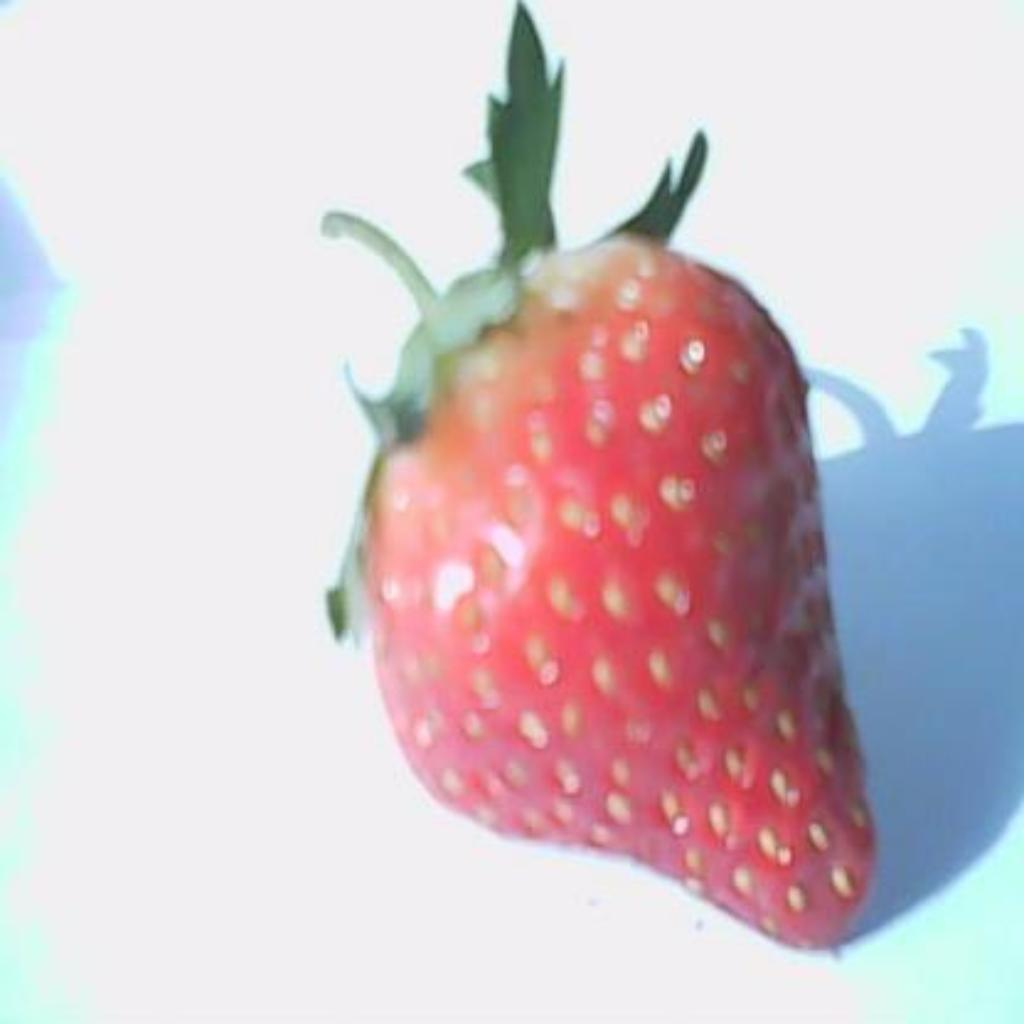strawberry: (324, 4, 872, 945)
